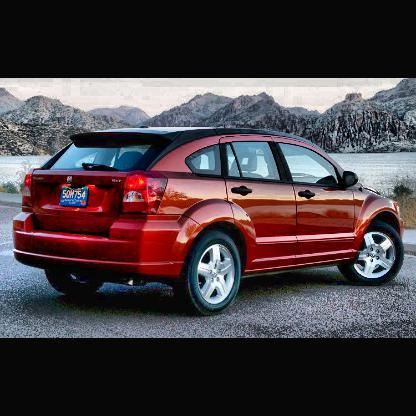Dodge Caliber Wagon 2007: (12, 122, 408, 317)
